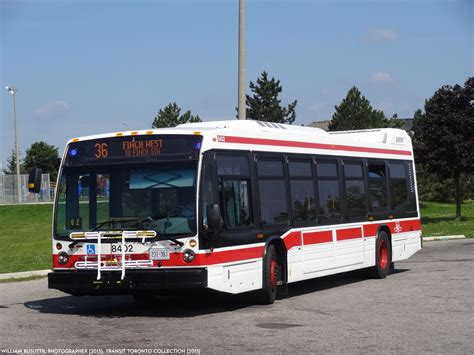bus: (57, 125, 420, 303)
